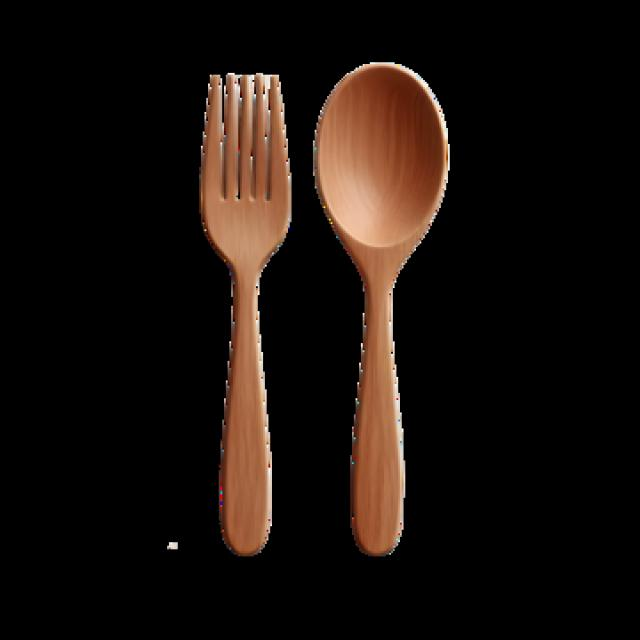Garpu: (168, 63, 309, 564)
Sendok: (294, 50, 467, 590)
